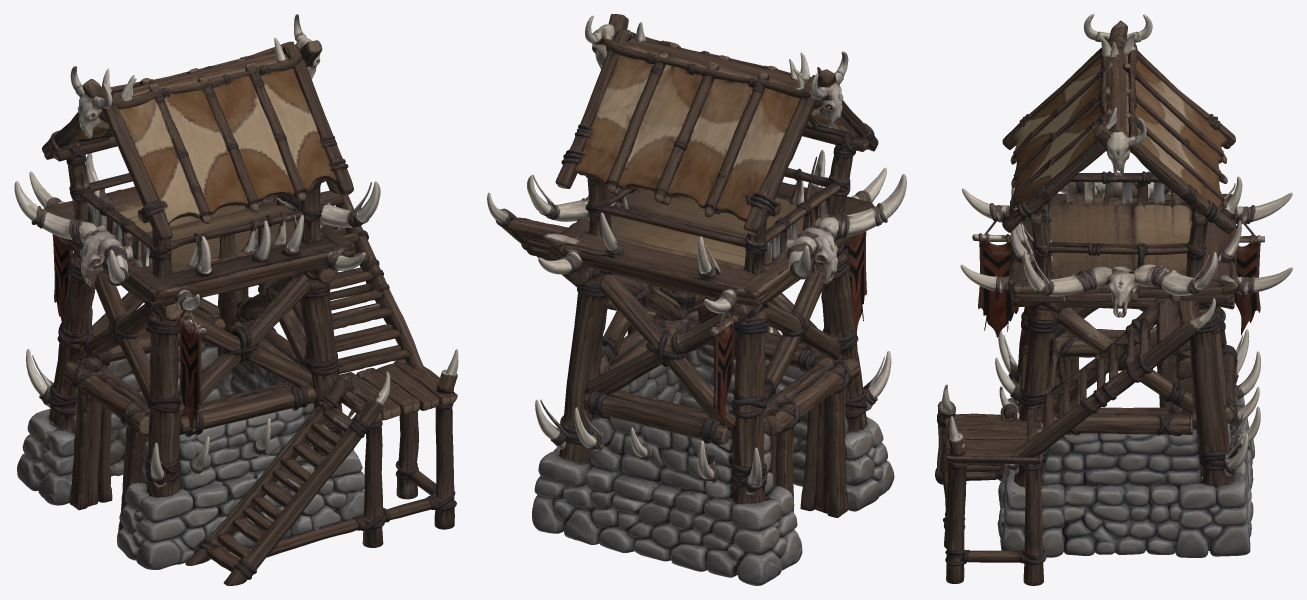
Rendered from TrollWatchtower_300k.glb.
The picture shows the model from 3 angles, left to right: view 1: azimuth 30°, elevation 25°; view 2: azimuth 150°, elevation 25°; view 3: azimuth 270°, elevation 25°; orthographic projection. The views are drawn at different scales.
Parts seen in each view (by area): view 1: Mesh_0; view 2: Mesh_0; view 3: Mesh_0.
Part boxes in pixels (x1,y1,x2,y2): Mesh_0: (14, 14, 458, 585); Mesh_0: (487, 14, 906, 585); Mesh_0: (935, 14, 1292, 585).
Bounding box in the file's own units: 1.37 × 1.9 × 1.4.
Materials: 1 (1 with a texture image).
